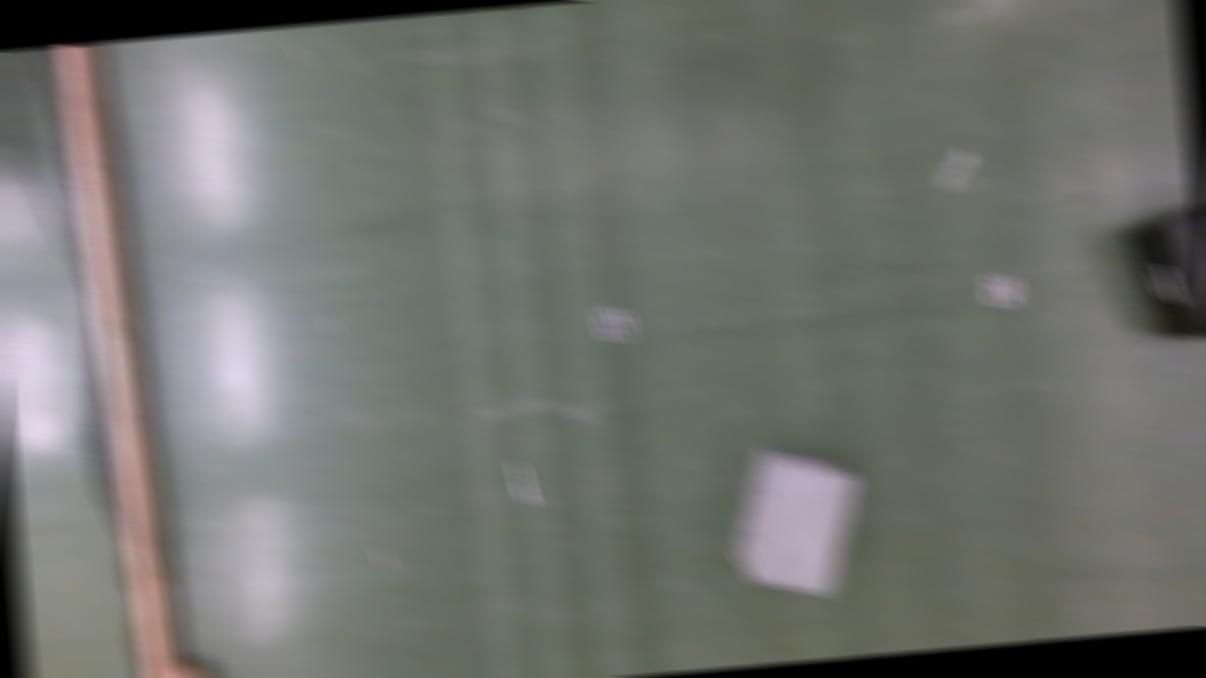probes: (938, 148, 976, 190), (510, 455, 533, 504)
rako: (725, 437, 870, 604), (1119, 203, 1206, 342)
